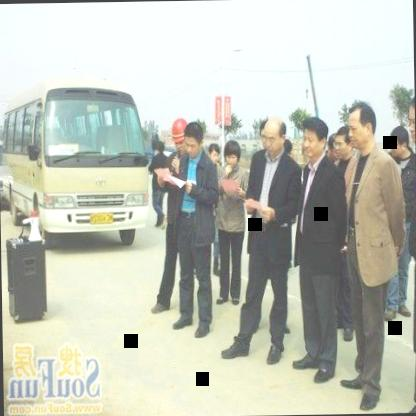head: (346, 100, 378, 154), (299, 115, 329, 167), (258, 112, 287, 160), (387, 123, 411, 164), (182, 118, 205, 160), (333, 123, 356, 164), (222, 136, 243, 171), (405, 87, 415, 145), (205, 140, 220, 168)
helmet: (166, 114, 186, 158)
